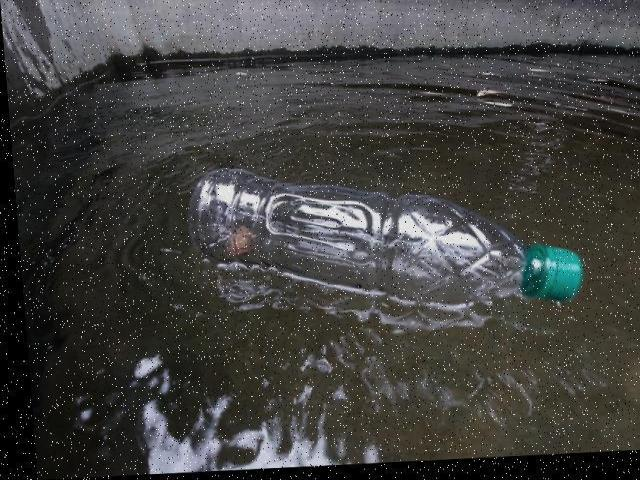Bottle: (182, 163, 595, 317)
